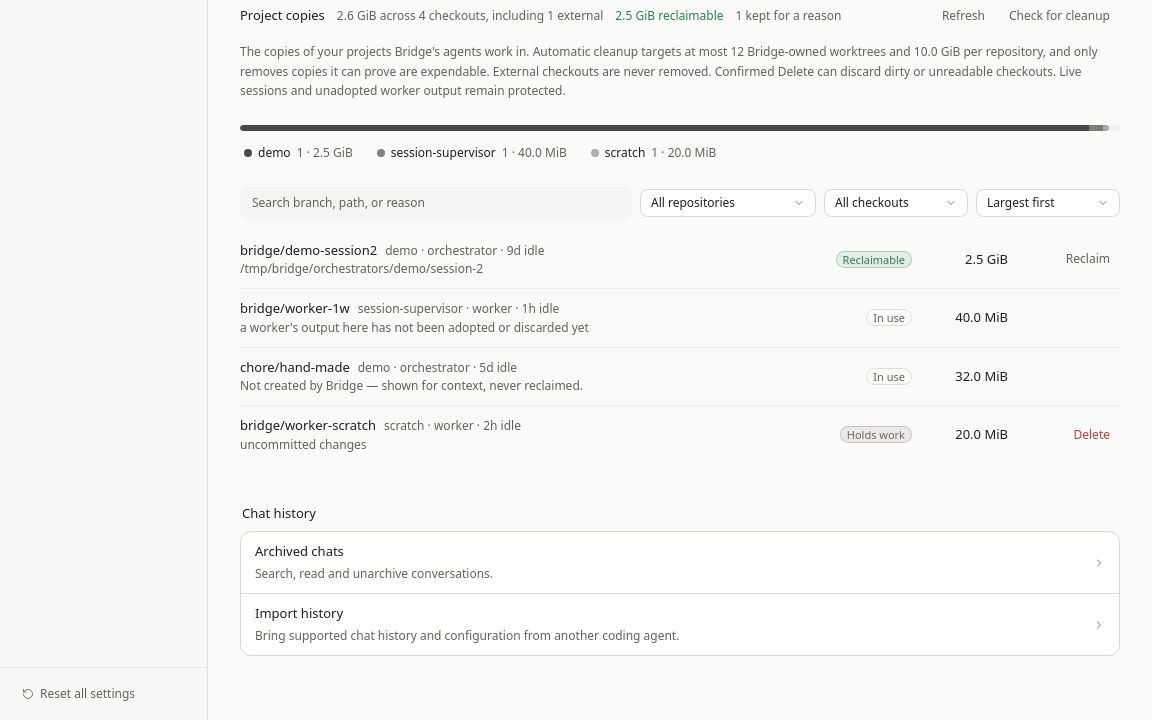
SettingsScreen › mounted › opens archived chats inside Settings from Data & storage
(page scrolled)
Click the button "Archived chats Search, read and unarchive conversations." at (299, 551), box [241,532,1119,594]
(page scrolled)
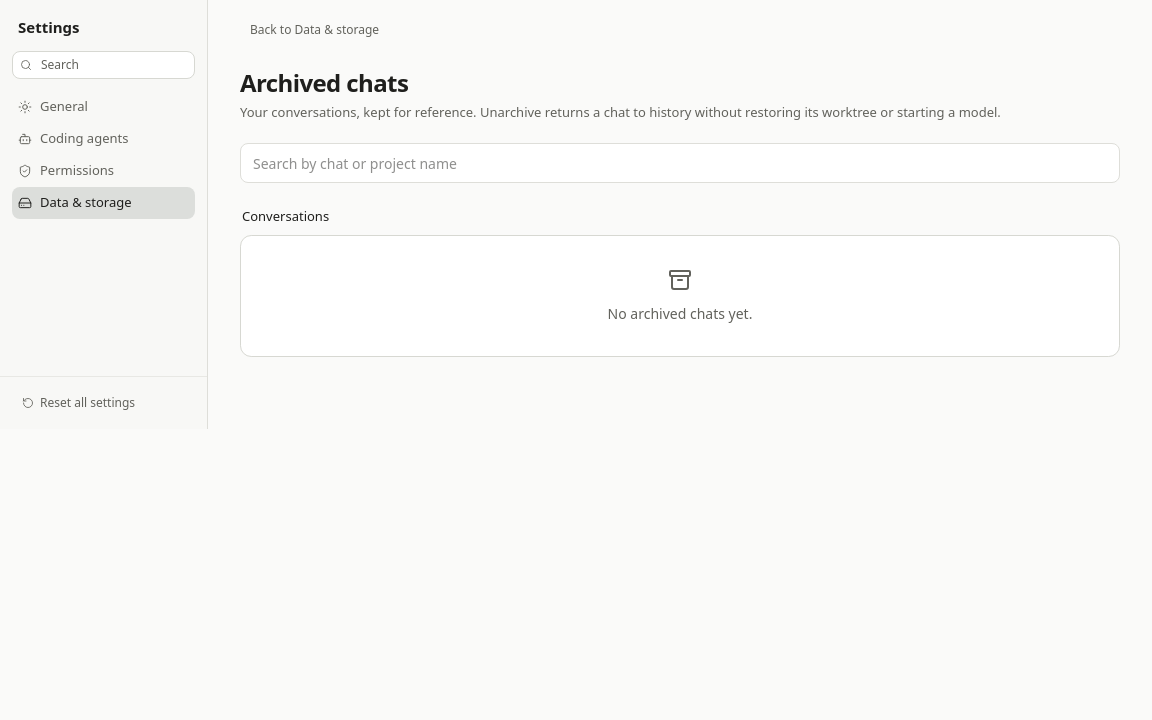
Check: the text "Archived chats" is shown, box [240,66,408,99]
Check: the text "Back to Data & storage" is shown, box [240,16,389,44]
